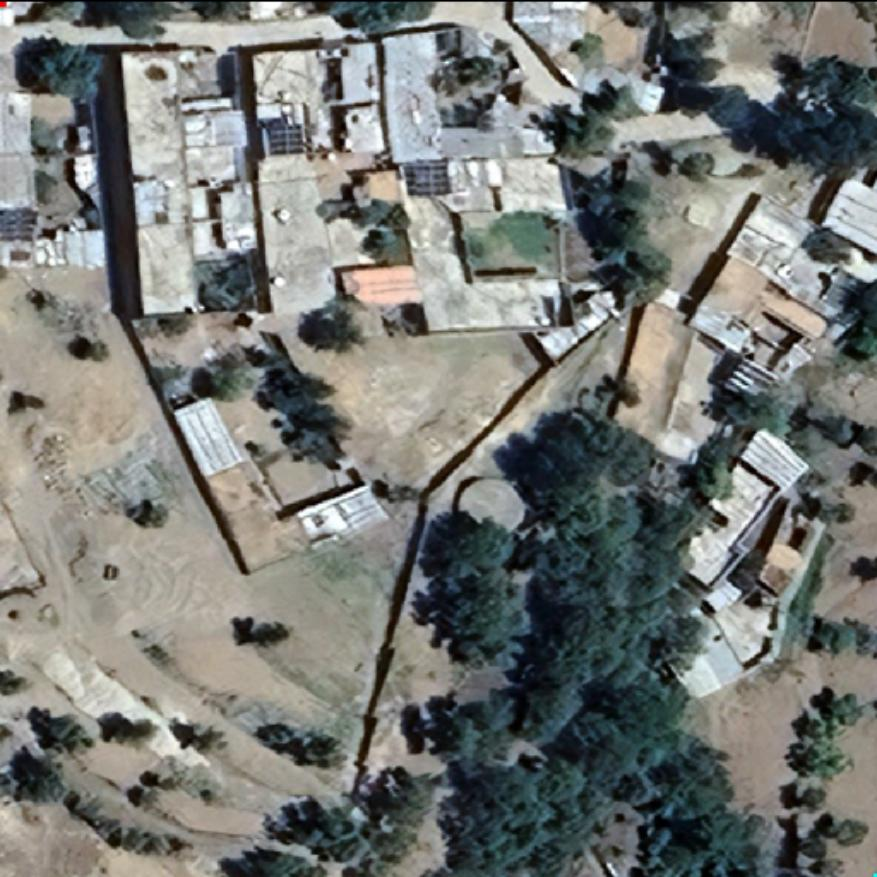Solarpanel: (404, 154, 456, 200), (264, 116, 308, 157), (0, 201, 40, 244)
